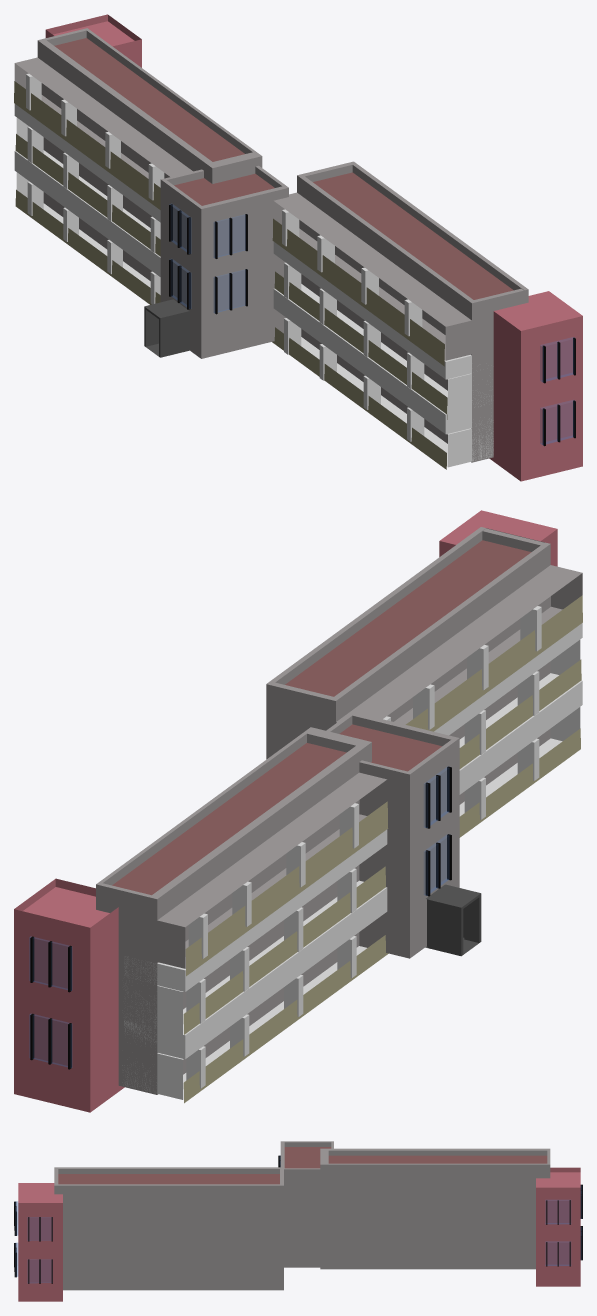
The model's file is hostel.glb.
3 views of the same model, one above another, from view 1: azimuth 30°, elevation 25°; view 2: azimuth 150°, elevation 25°; view 3: azimuth 270°, elevation 25° (orthographic). The views are drawn at different scales.
Parts seen in each view (by area): view 1: Cube.002, Cube, Cube.003, Cube.001, Cube.024, Cube.009, Cube.004, Plane.004, Cube.006, Plane.001, Plane.005, Plane.006 (+15 smaller); view 2: Cube.001, Cube.002, Cube.040, Cube, Cube.024, Cube.009, Cube.006, Plane.001, Plane.004, Plane.003, Cube.008, Plane.002 (+13 smaller); view 3: Cube.002, Cube.001, Cube.003, Cube.040, Cube, Cube.054, Cube.053, Cube.055, Cube.049.
Part boxes in pixels (x1,y1,x2,y2): Cube.002: (297, 161, 528, 462); Cube: (160, 165, 288, 358); Cube.003: (489, 291, 582, 481); Cube.001: (37, 28, 262, 280); Cube.024: (274, 192, 493, 360); Cube.009: (14, 57, 192, 178); Cube.004: (273, 284, 493, 434); Plane.004: (272, 218, 444, 366); Cube.006: (14, 150, 160, 276); Plane.001: (14, 81, 160, 209); Plane.005: (274, 271, 447, 419); Plane.006: (272, 327, 446, 469); Cube.001: (96, 727, 371, 1094); Cube.002: (266, 527, 550, 804); Cube.040: (14, 878, 124, 1112); Cube: (326, 712, 459, 958); Cube.024: (298, 565, 582, 735); Cube.009: (124, 772, 386, 968); Cube.006: (124, 880, 387, 1059); Plane.001: (185, 801, 388, 976); Plane.004: (405, 595, 582, 731); Plane.003: (183, 935, 388, 1103); Cube.008: (124, 829, 387, 991); Plane.002: (183, 866, 385, 1034); Cube.002: (54, 1167, 283, 1290); Cube.001: (320, 1148, 550, 1269); Cube.003: (18, 1183, 62, 1301); Cube.040: (536, 1167, 580, 1286); Cube: (280, 1141, 333, 1267); Cube.054: (545, 1200, 570, 1224); Cube.053: (27, 1217, 52, 1241); Cube.055: (27, 1259, 52, 1283); Cube.049: (545, 1241, 569, 1265).
Bounding box in the file's own units: 9.17 × 6.73 × 32.14.
